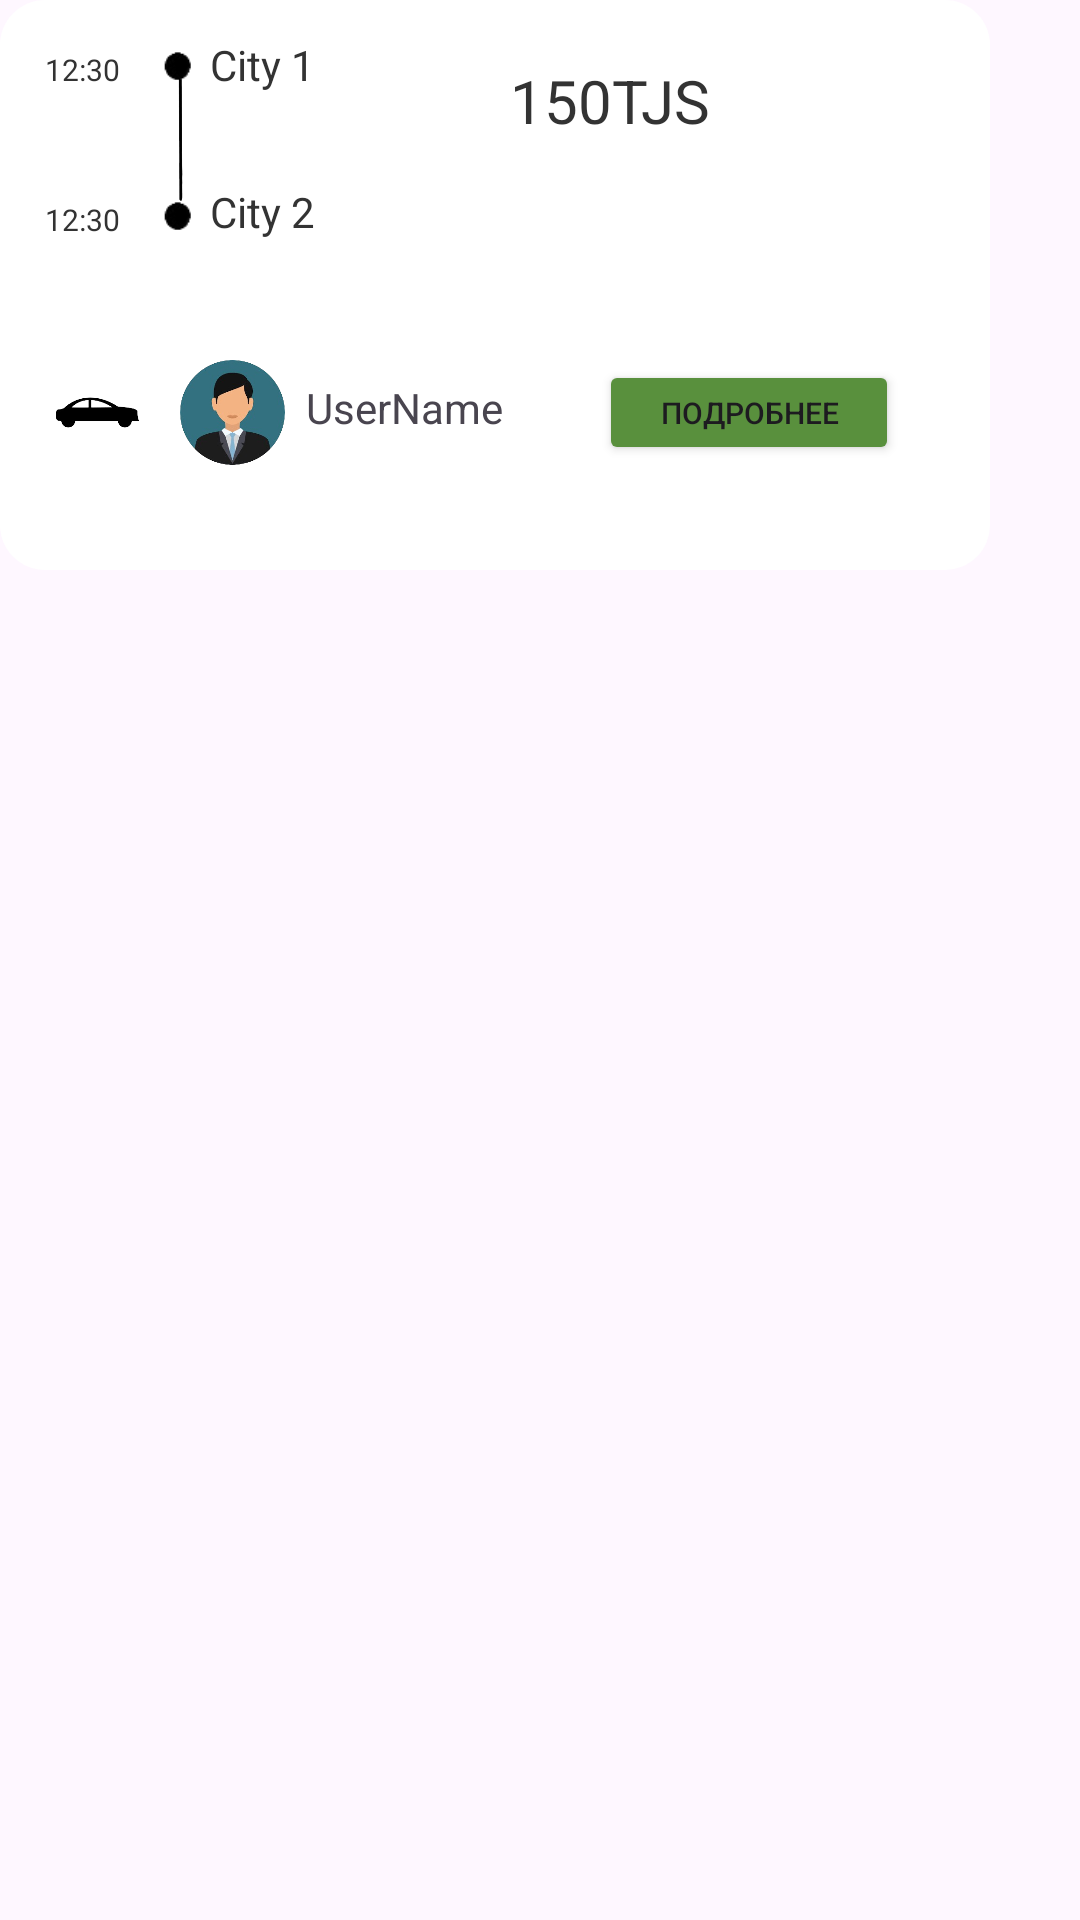

Screen size 1080px x 1920px. Icon name, then its center in pixels as point (x, y):
car: point (97, 412)
